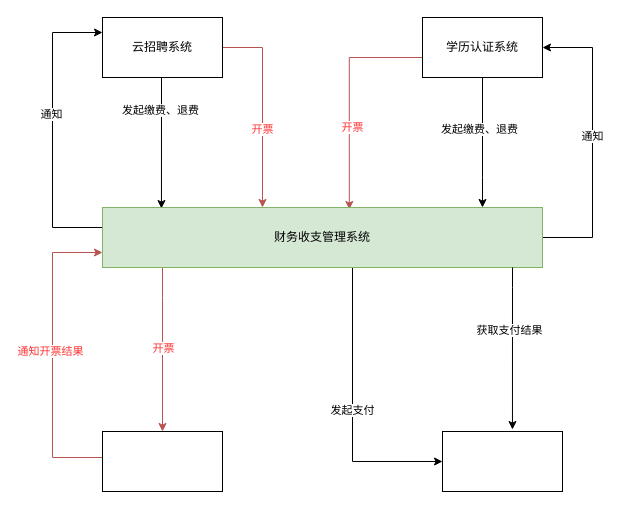
This 620x509 diagram has some shape labels left out. Here are the shapes that lost their labels. From the top down, the centre of each, then its label:
At (x=162, y=461): "金税".
At (x=502, y=461): "银联".
